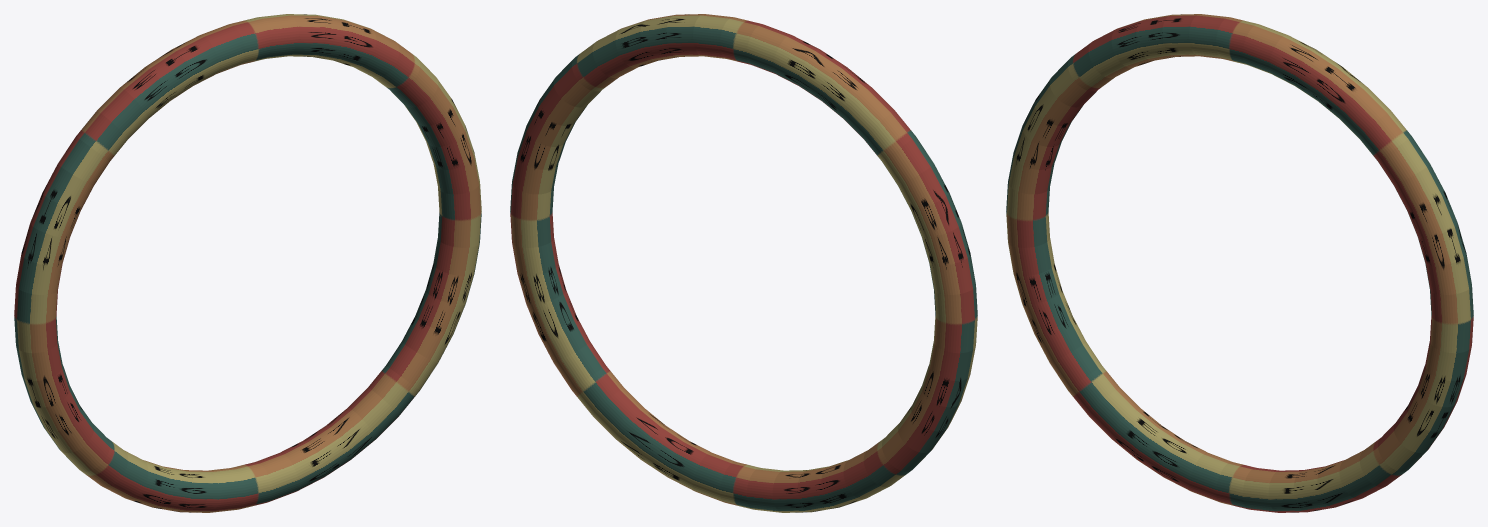
Rendered from texture_torus_R29_r2.glb.
3 renders of one model, left to right at view 1: azimuth 30°, elevation 25°; view 2: azimuth 150°, elevation 25°; view 3: azimuth 330°, elevation 25°, orthographic.
Parts seen in each view (by area): view 1: world; view 2: world; view 3: world.
Part boxes in pixels (x1,y1,x2,y2): world: (14, 14, 481, 512); world: (510, 14, 977, 512); world: (1006, 14, 1473, 512).
Bounding box in the file's own units: 31.87 × 31.8 × 2.53.
1 material, 1 textured.
